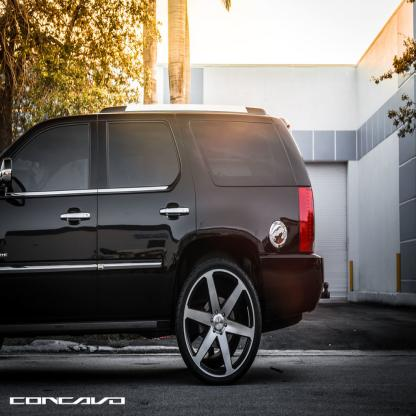Car: (1, 105, 331, 387)
